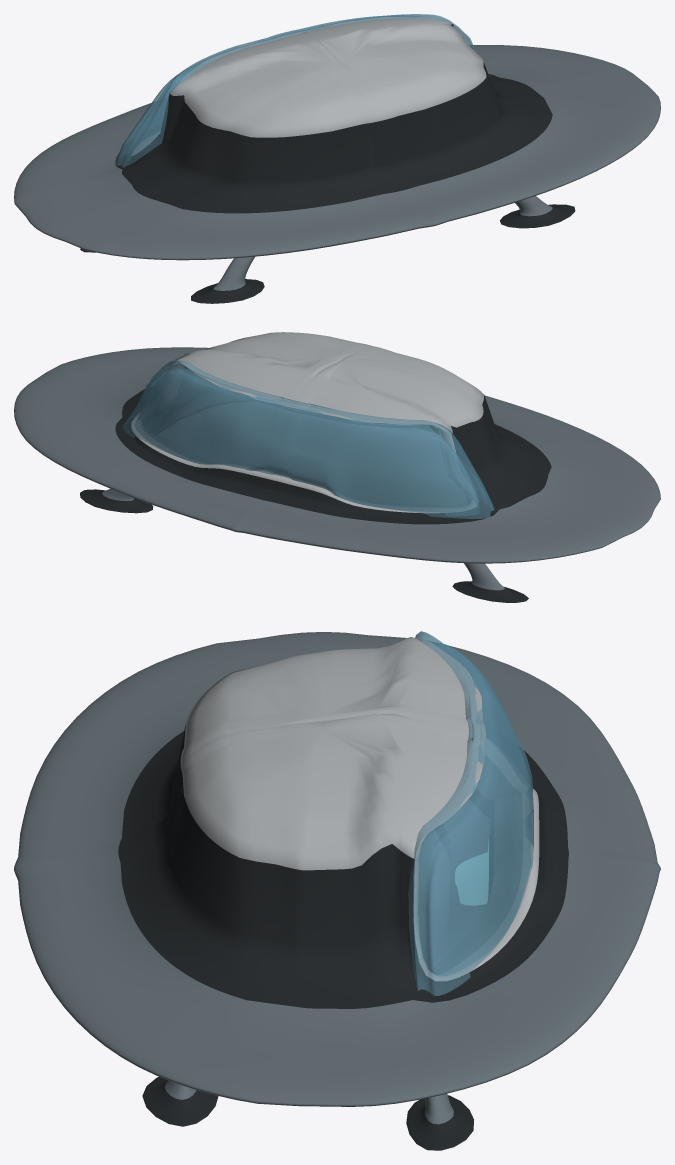
File: UFO_largers.fbx
3 renders of one model, top to bottom at view 1: azimuth 30°, elevation 25°; view 2: azimuth 150°, elevation 25°; view 3: azimuth 270°, elevation 25°, orthographic. The views are drawn at different scales.
Parts seen in each view (by area): view 1: polySurface2; view 2: polySurface2; view 3: polySurface2.
Part boxes in pixels (bbox=[...]): polySurface2: bbox=[14, 14, 660, 303]; polySurface2: bbox=[14, 332, 660, 602]; polySurface2: bbox=[14, 631, 660, 1150].
Bounding box in the file's own units: 410 × 108 × 237.
